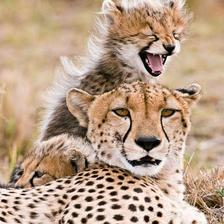Cheetah: (9, 0, 190, 178), (0, 79, 210, 223), (10, 131, 151, 209)
